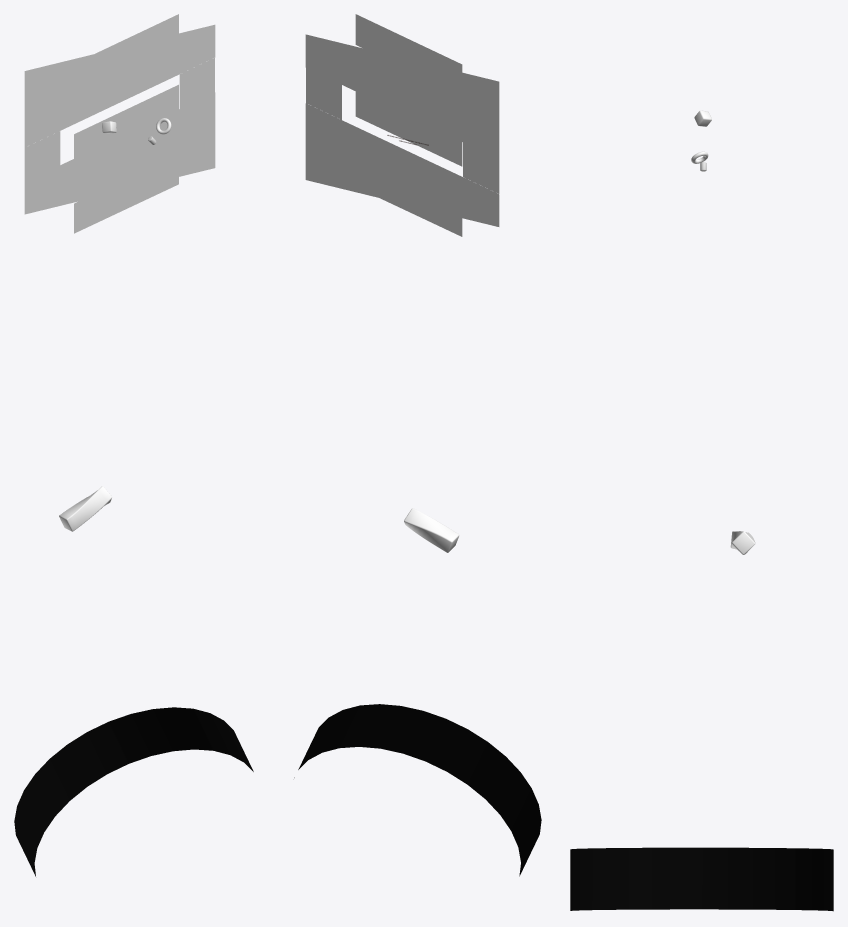
The model's file is section_2.glb.
3 renders of one model, left to right at view 1: azimuth 30°, elevation 25°; view 2: azimuth 150°, elevation 25°; view 3: azimuth 270°, elevation 25°, orthographic. The views are drawn at different scales.
Visible parts, largest first — view 1: Flexible, Background, TitleContainer; view 2: Flexible, Background, TitleContainer; view 3: Background.
Boxes of the visible parts, x1=… form: Flexible: x1=24, y1=14, x2=215, y2=233; Background: x1=14, y1=707, x2=253, y2=876; TitleContainer: x1=59, y1=486, x2=111, y2=531; Flexible: x1=305, y1=14, x2=499, y2=236; Background: x1=294, y1=704, x2=541, y2=876; TitleContainer: x1=404, y1=508, x2=459, y2=552; Background: x1=570, y1=847, x2=833, y2=911.
Size of the model in its own units: 24.79 by 94.41 by 24.59.
7 materials, 1 textured.
